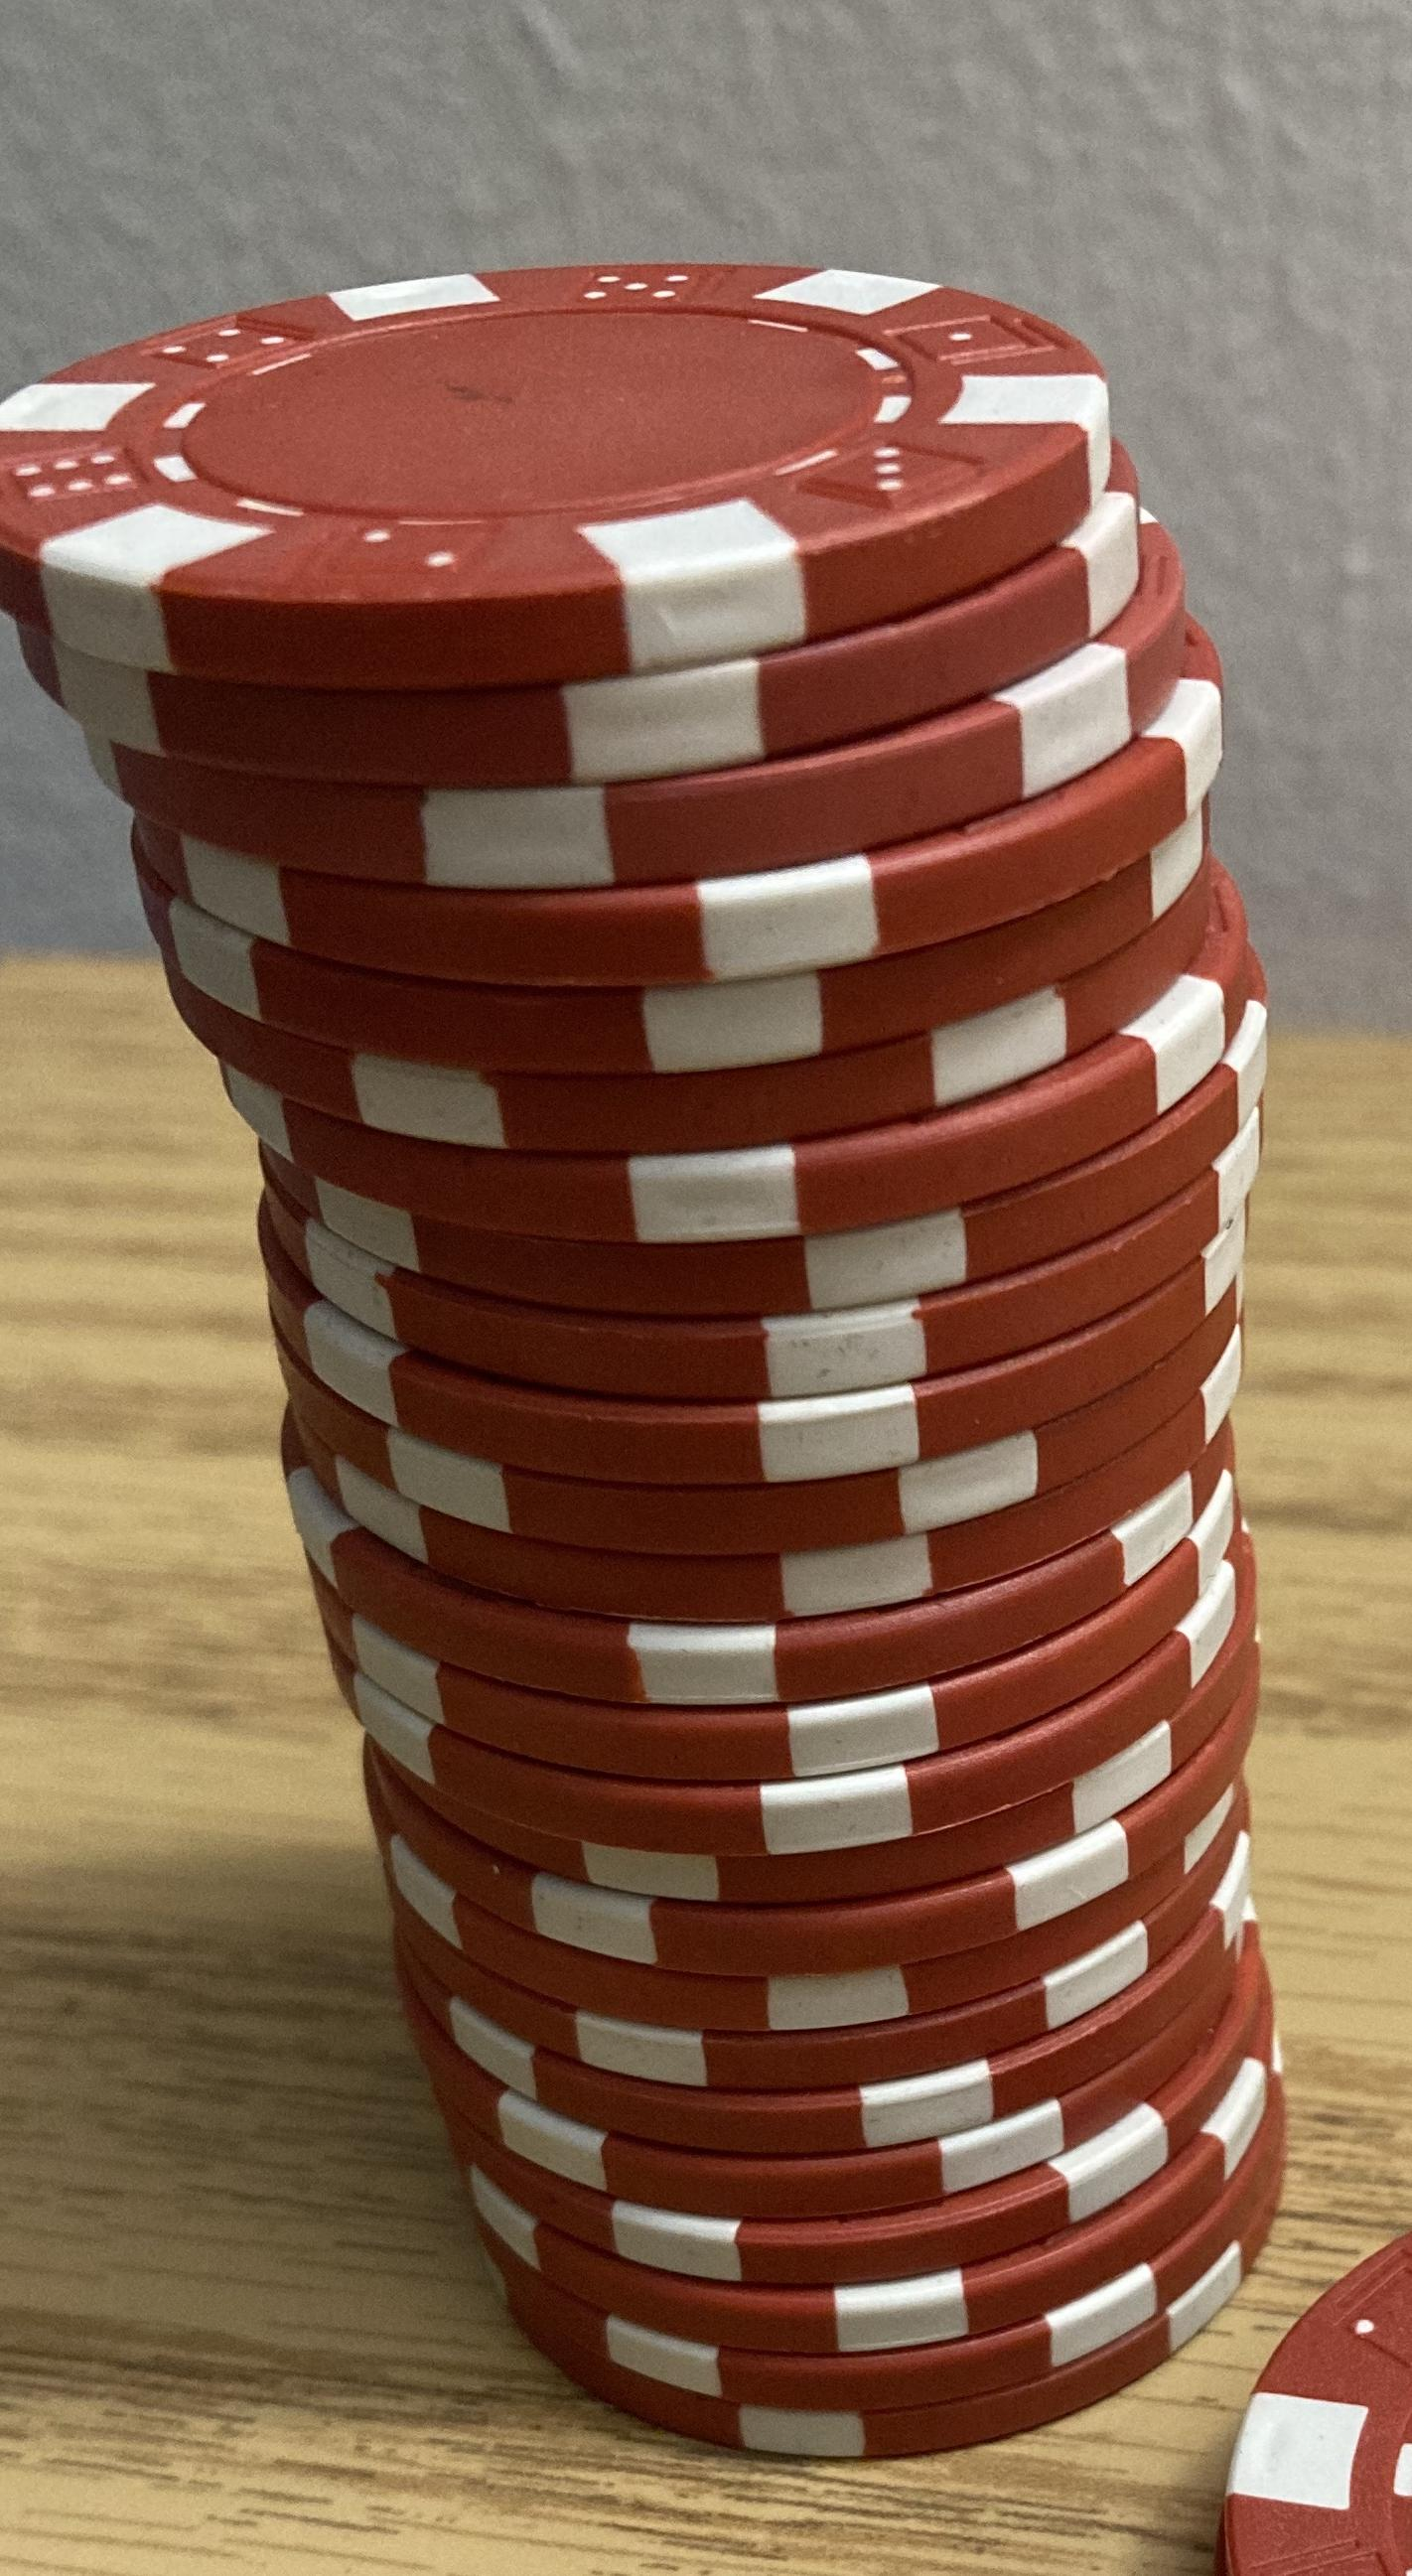Chip: (2, 2, 1412, 2576)
